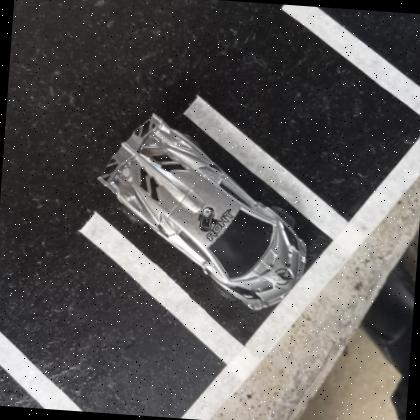Car: (98, 110, 306, 310)
